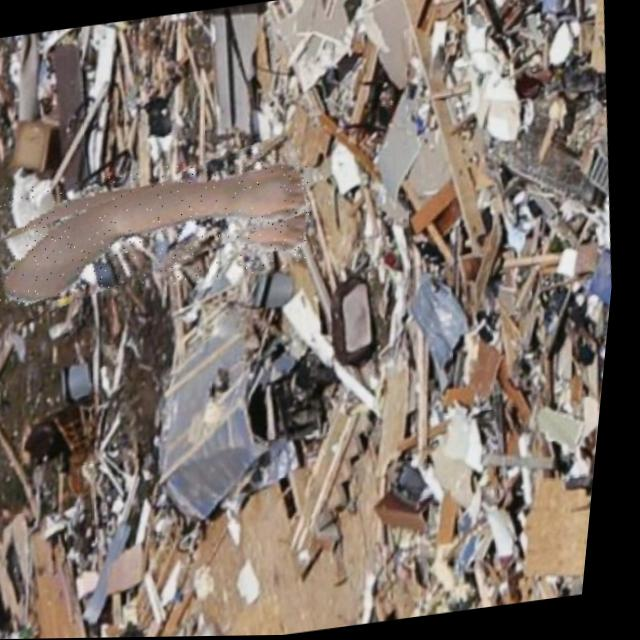Person in Rubble: (0, 146, 326, 308)
